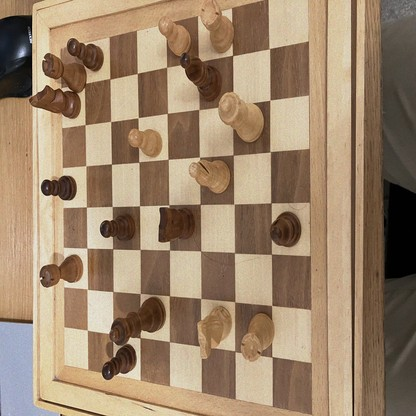bishop_black: (180, 53, 222, 101)
bishop_white: (189, 159, 231, 195)
knight_black: (29, 87, 82, 118), (159, 207, 195, 242)
knight_white: (197, 306, 232, 360)
pawn_black: (103, 344, 136, 379), (67, 39, 103, 70), (271, 211, 300, 246), (101, 214, 135, 242), (41, 177, 77, 200)
pawn_white: (159, 17, 191, 56), (129, 128, 162, 157)
queen_black: (110, 297, 166, 345)
queen_white: (219, 92, 264, 142)
rock_black: (43, 54, 86, 92), (40, 254, 83, 288)
rock_white: (200, 0, 234, 52), (241, 313, 275, 362)
